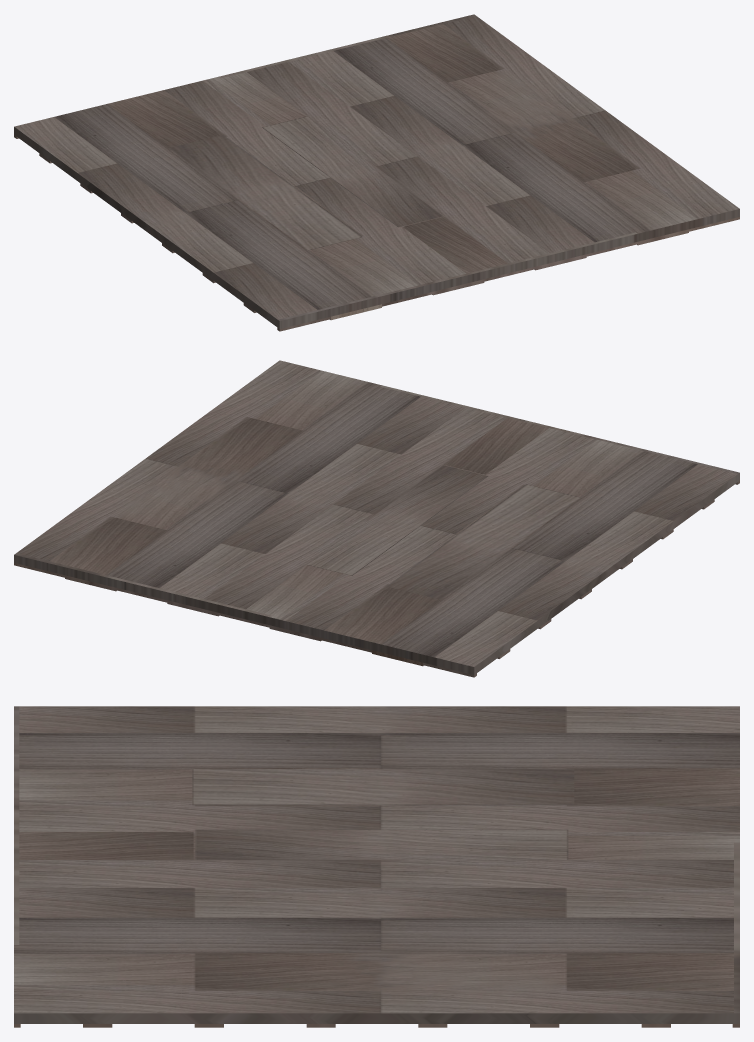
The model's file is Floor.fbx.
The picture shows the model from 3 angles, top to bottom: view 1: azimuth 30°, elevation 25°; view 2: azimuth 150°, elevation 25°; view 3: azimuth 270°, elevation 25°; orthographic projection. The views are drawn at different scales.
Parts seen in each view (by area): view 1: Floor/Ceiling.001; view 2: Floor/Ceiling.001; view 3: Floor/Ceiling.001.
Boxes of the visible parts, x1,y1,x2,y2 form: Floor/Ceiling.001: (14, 14, 739, 331); Floor/Ceiling.001: (14, 360, 739, 677); Floor/Ceiling.001: (14, 706, 739, 1027).
Bounding box in the file's own units: 600 × 14.52 × 600.
